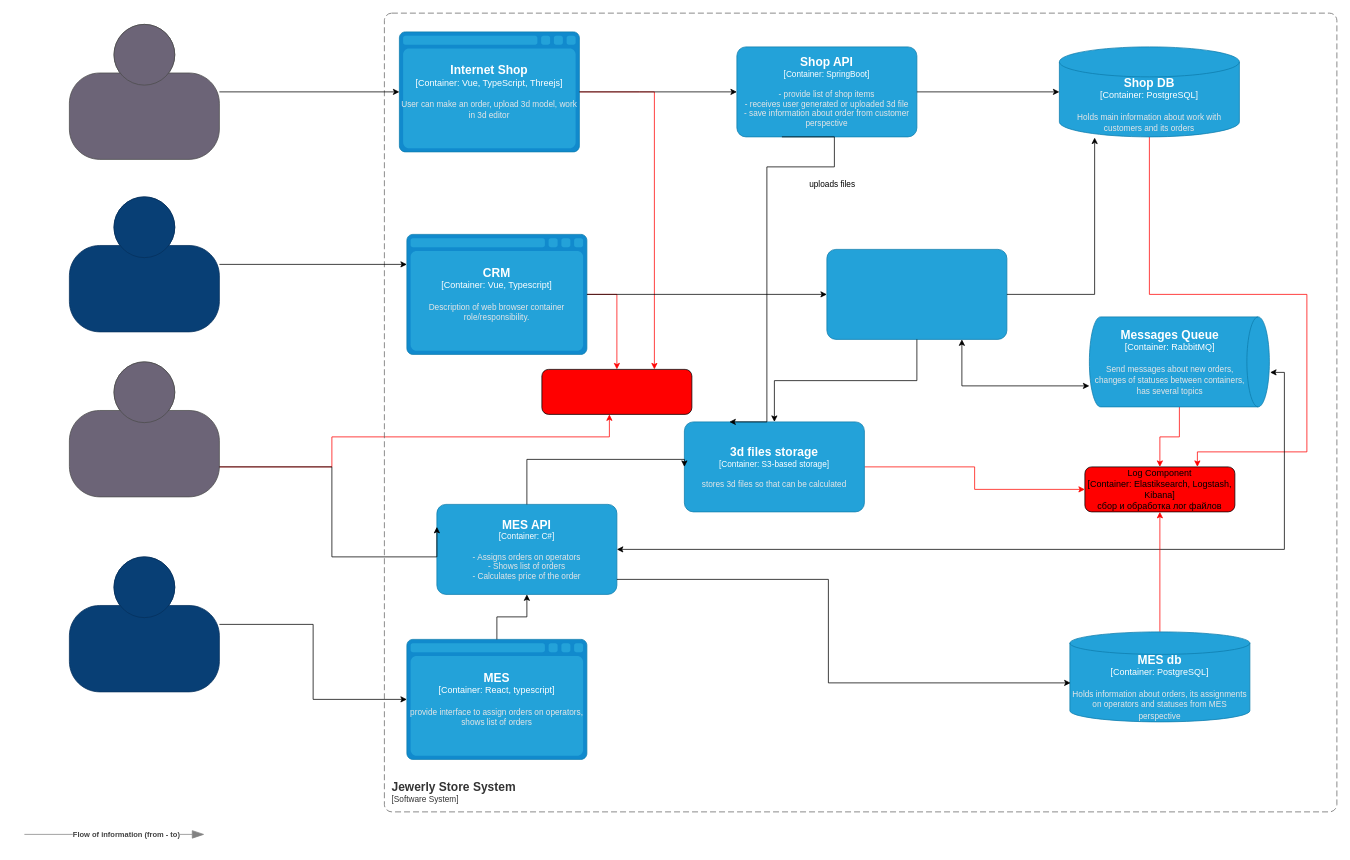
Image size: 1350x860. Some labels were removed from this diagram. The centre of each missing label's shape, as x and y in pixels:
API user [Person] Description of external person.: pixel 144 429
CRM API [Container: SpringBoot] Description of container role/responsibility.: pixel 916 294
Customer [Person] Description of external person.: pixel 144 91
Operator [Person] Takes order in work, manufactures jewerly: pixel 144 624
Seller [Person] Operates with order, confirms manufacturing for the user: pixel 144 264
Tracing Component [Container: OpenTelemetry, Jaeger] сбор и обработка телеметрии: pixel 616 391
